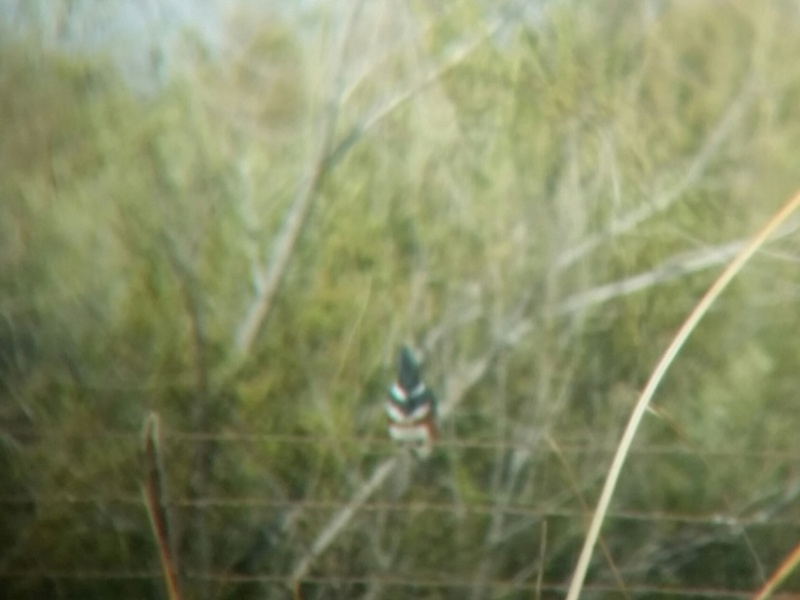kingfisher: (386, 345, 443, 461)
